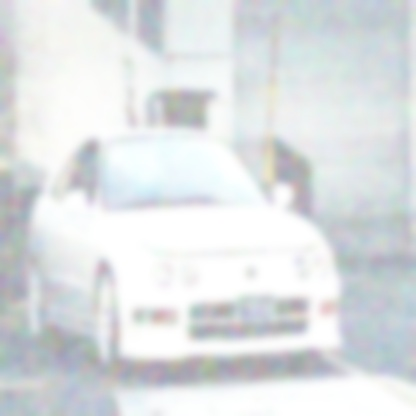Vehicle: (25, 127, 343, 377)
